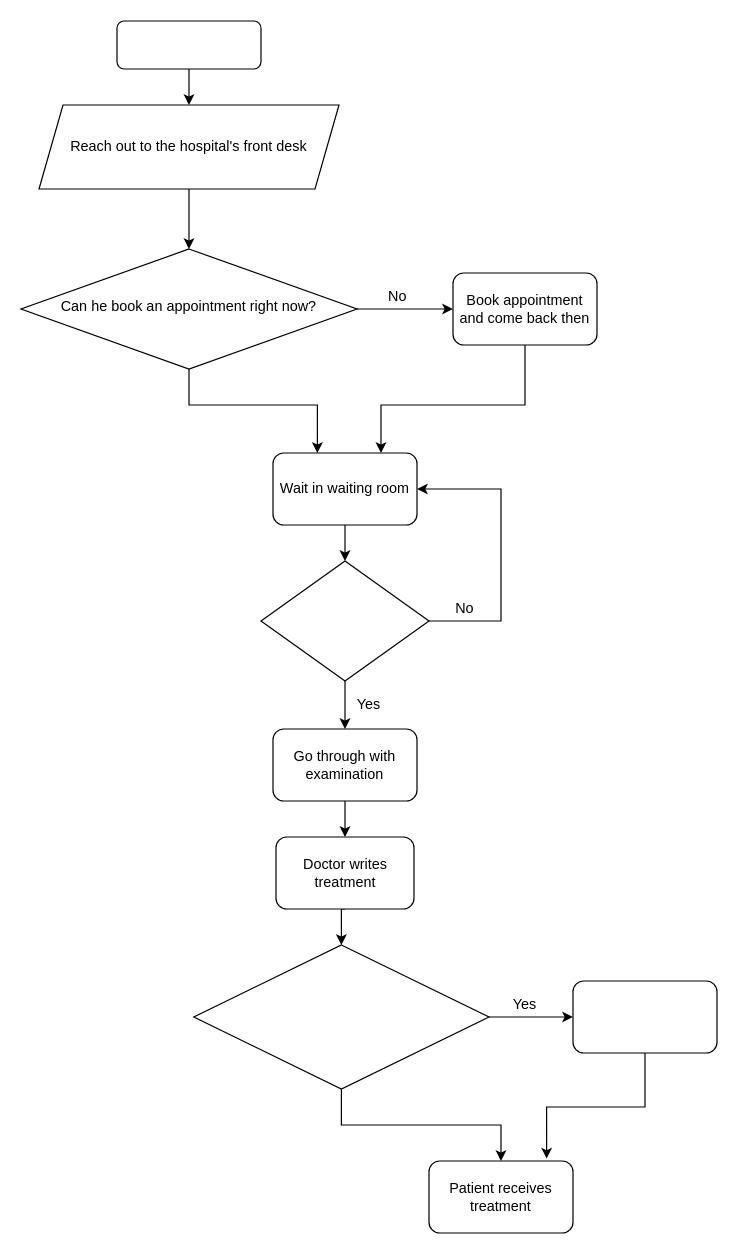
Image size: 738x1254. Some labels were removed from this diagram. The shapes that lost their labels are listed below. From the top down, each one's centre as x and y in pixels, then its label:
point (188, 44): Patient feels ill
point (344, 620): Did his turn come yet?
point (341, 1016): Does it require help from hospital staff?
point (644, 1016): Assign from staff pool
